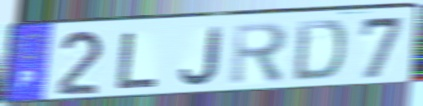2: (55, 28, 104, 96)
7: (358, 16, 405, 81)
D: (290, 18, 348, 83)
J: (178, 25, 223, 87)
L: (114, 30, 162, 91)
R: (229, 20, 292, 88)
